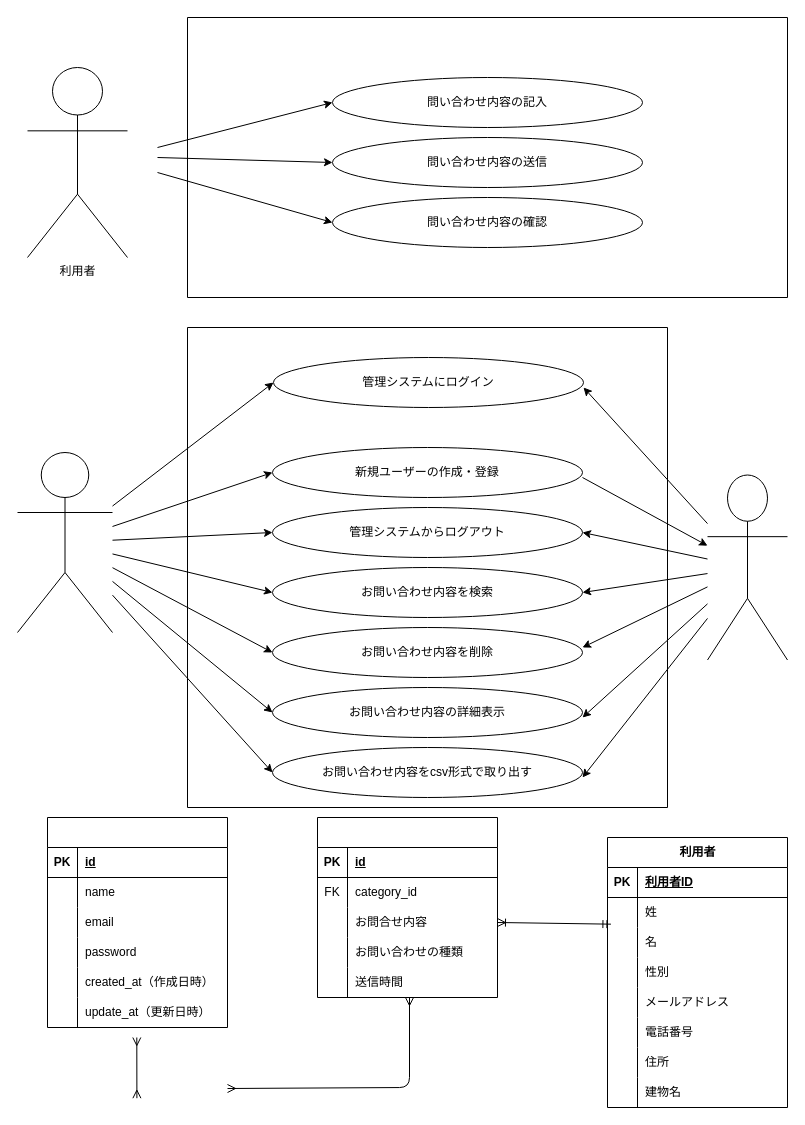
The diagram is 805 pixels wide and 1125 high, and some of its shapes have lost their labels. Each missing label, with the box of its shape:
contacts: (316, 816, 498, 998)
users: (46, 816, 228, 1028)
問い合わせ管理システム: (186, 326, 668, 808)
問い合わせ送信システム: (186, 16, 788, 298)
新規管理者: (706, 474, 788, 660)
管理者: (16, 452, 112, 632)
